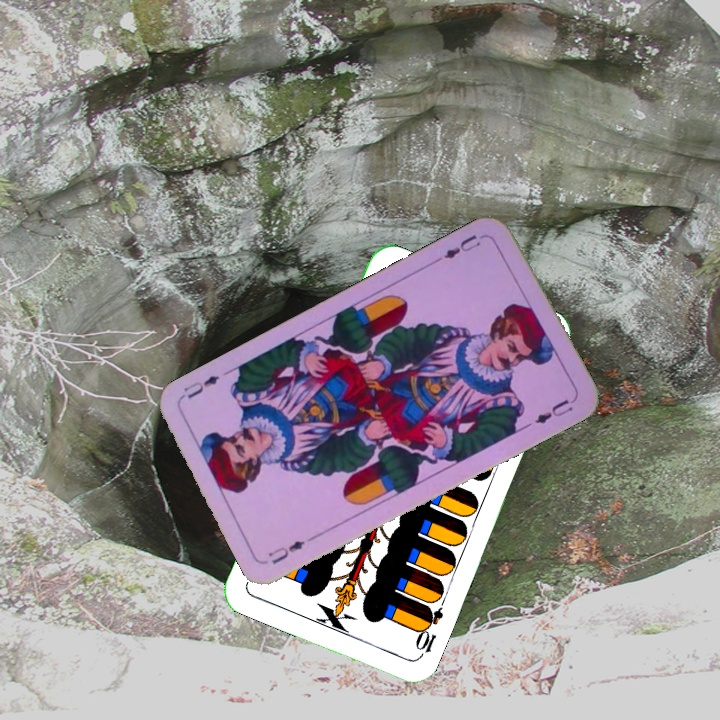E10: (411, 602, 446, 661)
EU: (264, 531, 319, 567), (433, 230, 483, 265)
